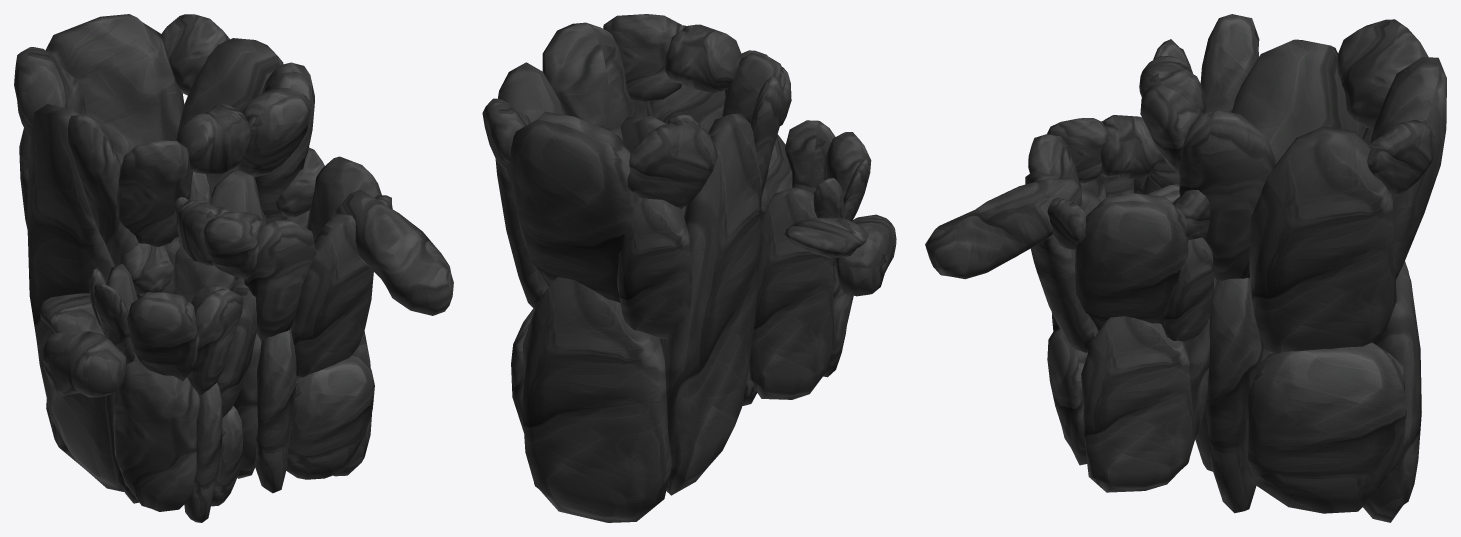
Rendered from IslandPlatformRocksShape3.dae.
3 views of the same model, side by side, from view 1: azimuth 30°, elevation 25°; view 2: azimuth 150°, elevation 25°; view 3: azimuth 270°, elevation 25° (orthographic). The views are drawn at different scales.
Parts seen in each view (by area): view 1: IslandPlatformRocks3; view 2: IslandPlatformRocks3; view 3: IslandPlatformRocks3.
Boxes of the visible parts, <box> form: IslandPlatformRocks3: <box>14,14,453,522</box>; IslandPlatformRocks3: <box>482,14,896,522</box>; IslandPlatformRocks3: <box>925,14,1446,522</box>.
Size of the model in its own units: 65.1 by 85.22 by 90.79.
